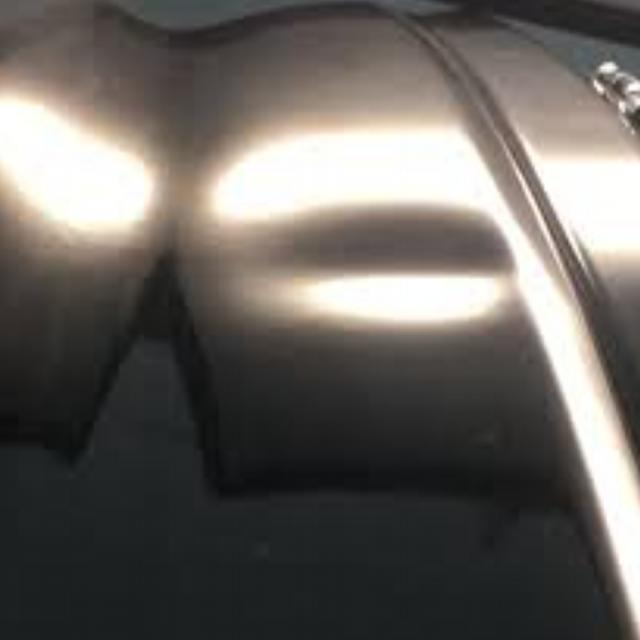dents: (271, 190, 513, 377)
